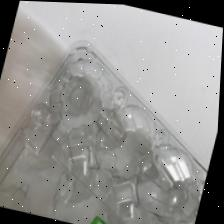plastic: (0, 38, 211, 224)
